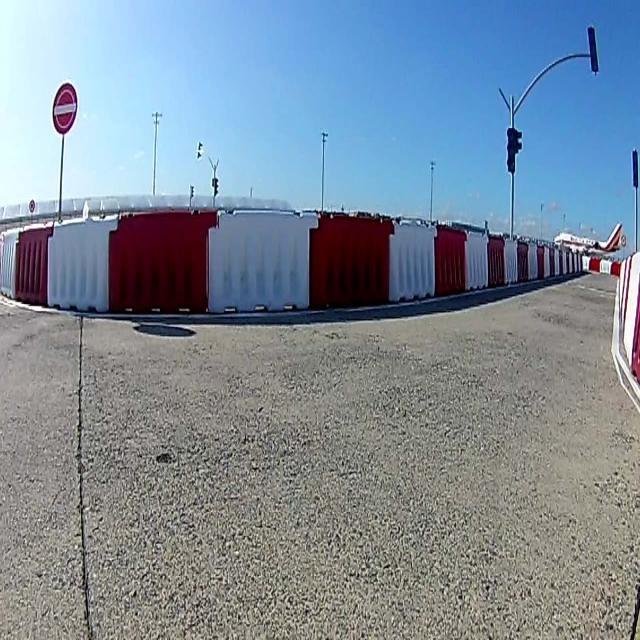girisyok: (52, 85, 78, 132)
